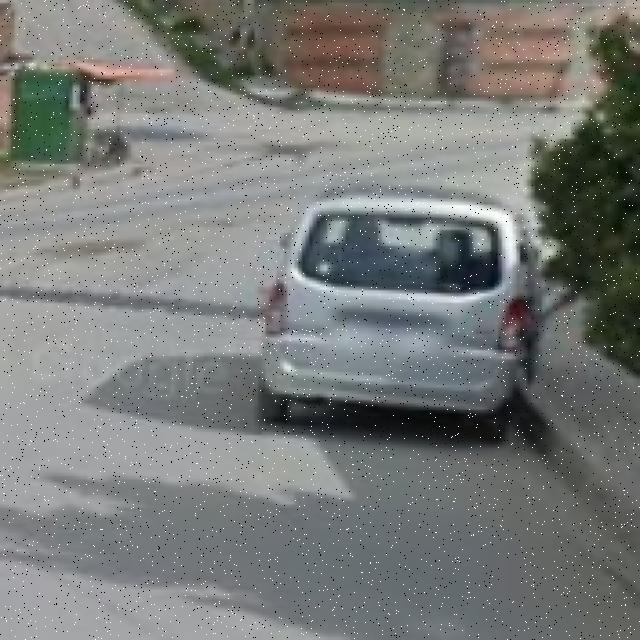cars: (271, 185, 532, 432)
